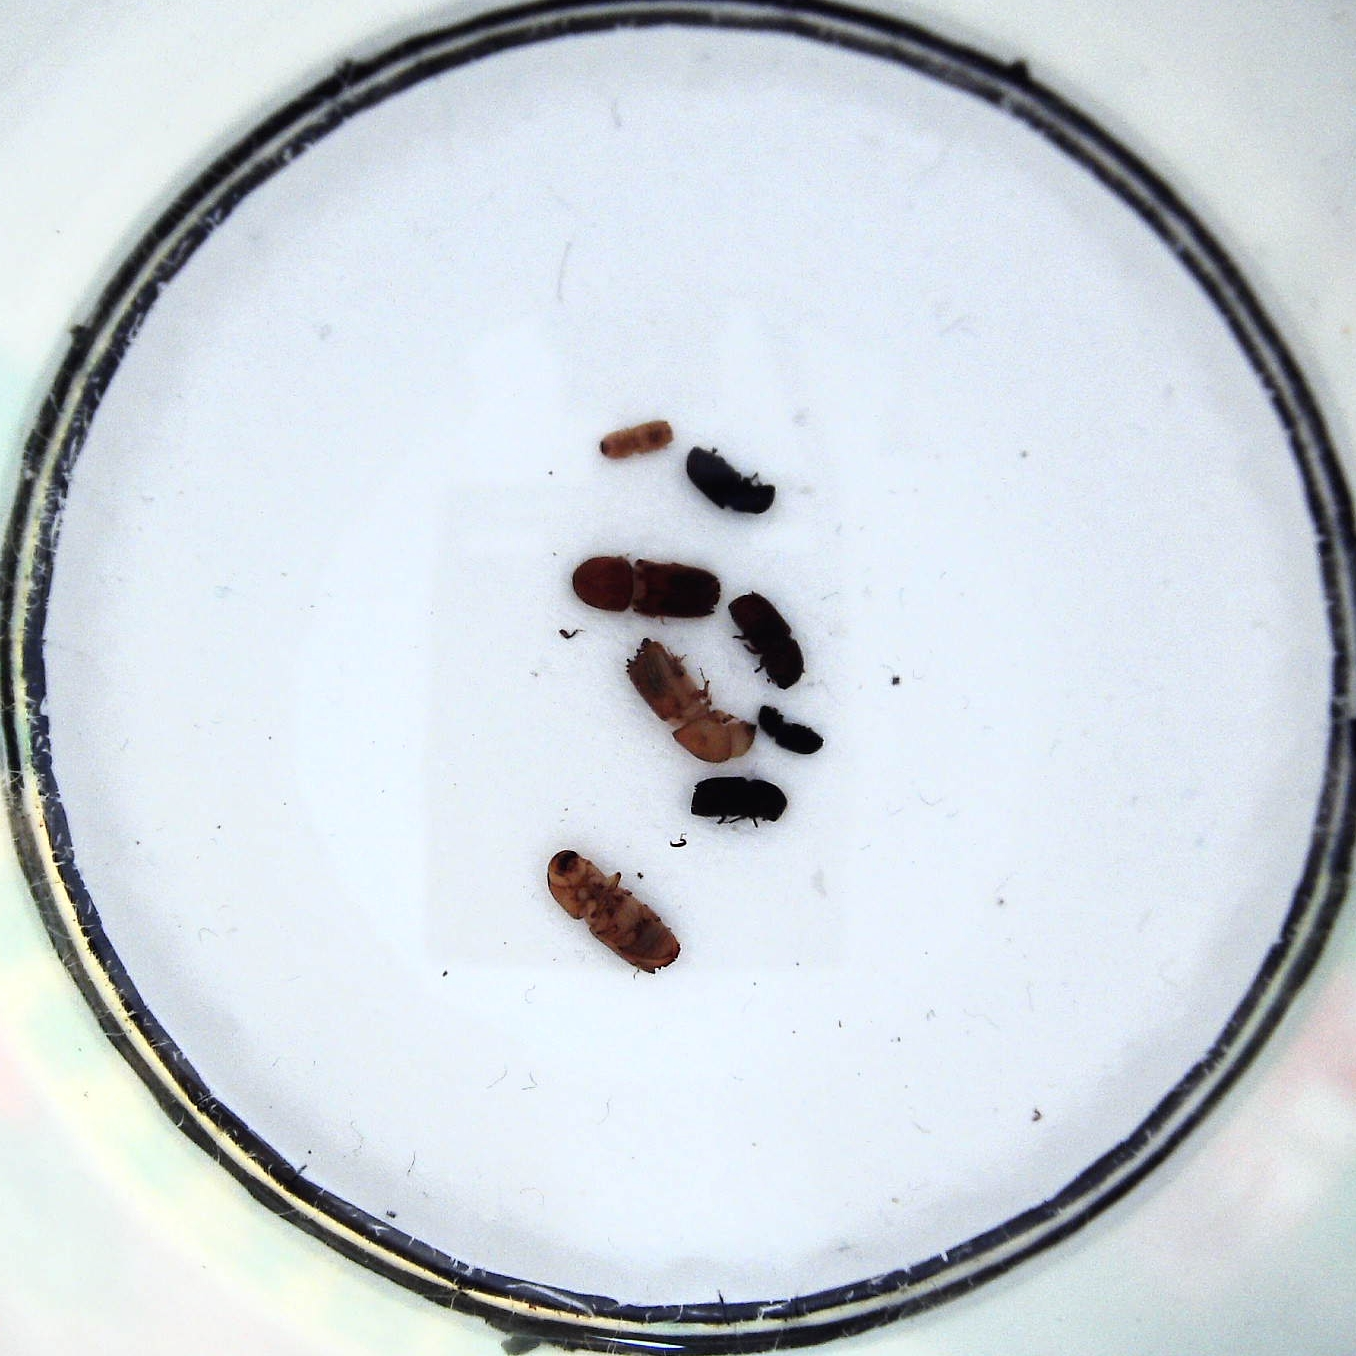Boerner: (545, 846, 682, 974), (623, 636, 759, 762), (569, 553, 725, 622)
Linnaeus: (728, 589, 803, 693), (690, 774, 789, 827)
acuminatus: (600, 420, 676, 462)
armandi: (687, 442, 777, 517)
coleoptera: (759, 702, 825, 757)
